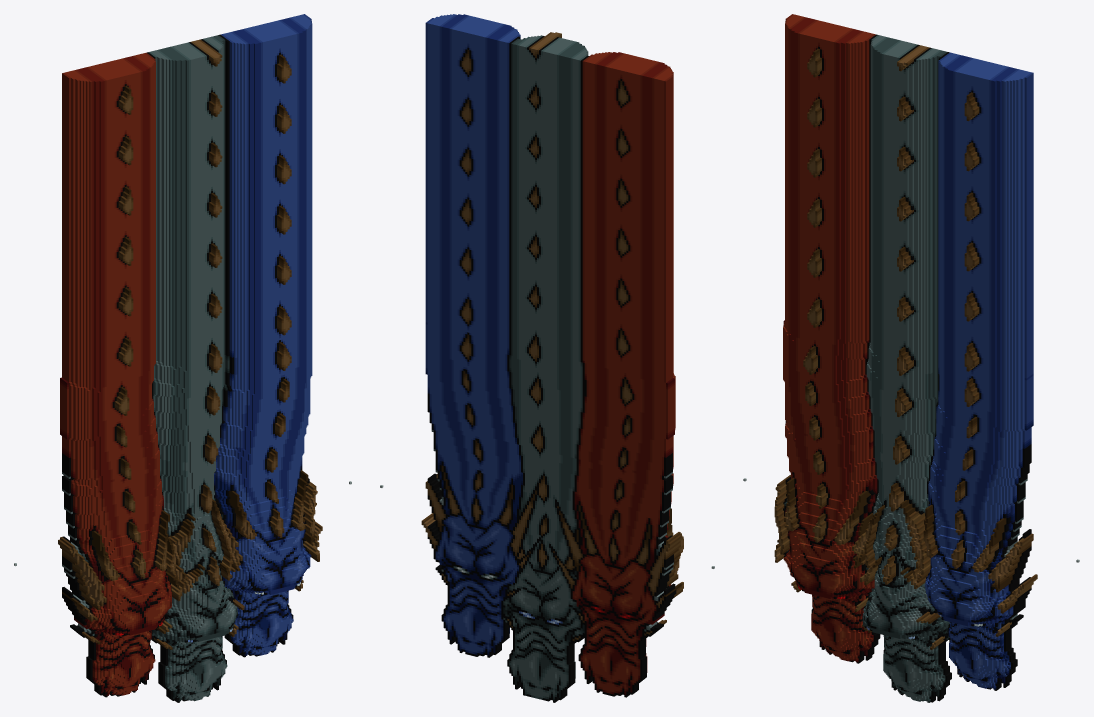
The model's file is dragon_heads_29.obj.
3 views of the same model, side by side, from view 1: azimuth 30°, elevation 25°; view 2: azimuth 150°, elevation 25°; view 3: azimuth 330°, elevation 25° (orthographic).
Size of the model in its own units: 16.8 by 31.2 by 2.7.
Materials: 1 (1 with a texture image).
